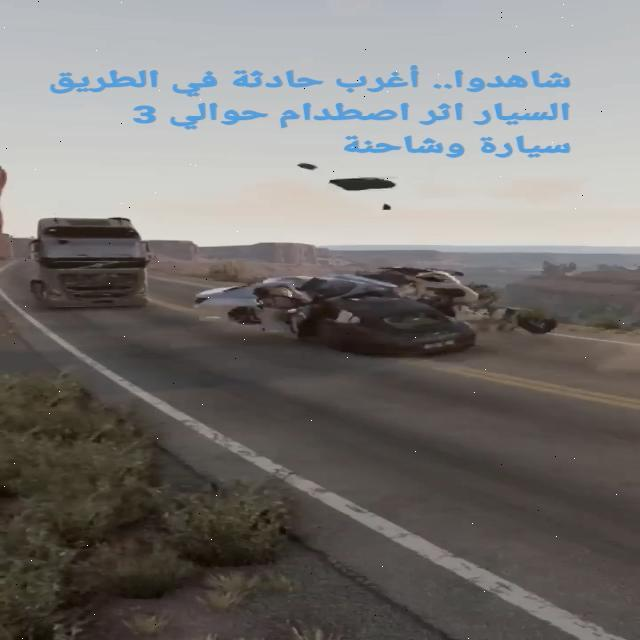accident: (172, 255, 575, 367)
